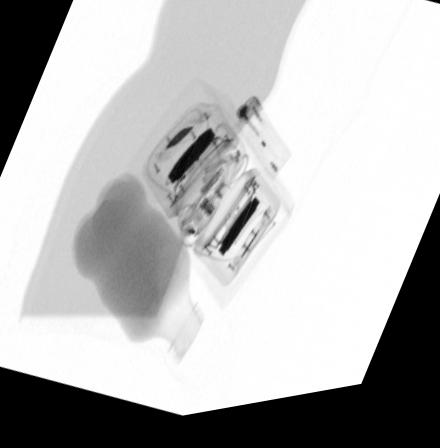Lighter: (232, 103, 294, 189)
